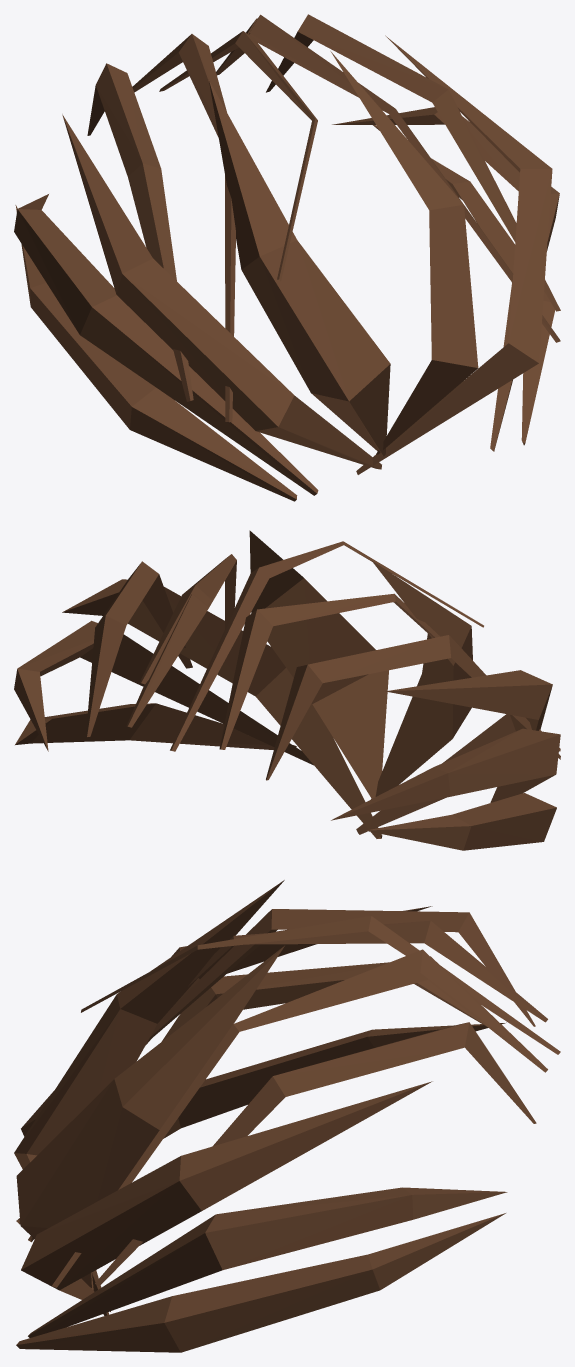
File: PeinadoEtapa3.fbx
3 renders of one model, top to bottom at view 1: azimuth 30°, elevation 25°; view 2: azimuth 150°, elevation 25°; view 3: azimuth 270°, elevation 25°, orthographic. The views are drawn at different scales.
Parts seen in each view (by area): view 1: PeinadoEtapa3; view 2: PeinadoEtapa3; view 3: PeinadoEtapa3.
Part boxes in pixels (x1=…): PeinadoEtapa3: x1=14, y1=14, x2=560, y2=501; PeinadoEtapa3: x1=14, y1=530, x2=560, y2=850; PeinadoEtapa3: x1=14, y1=880, x2=560, y2=1352.
Bounding box in the file's own units: 1.2 × 0.8586 × 1.07.
